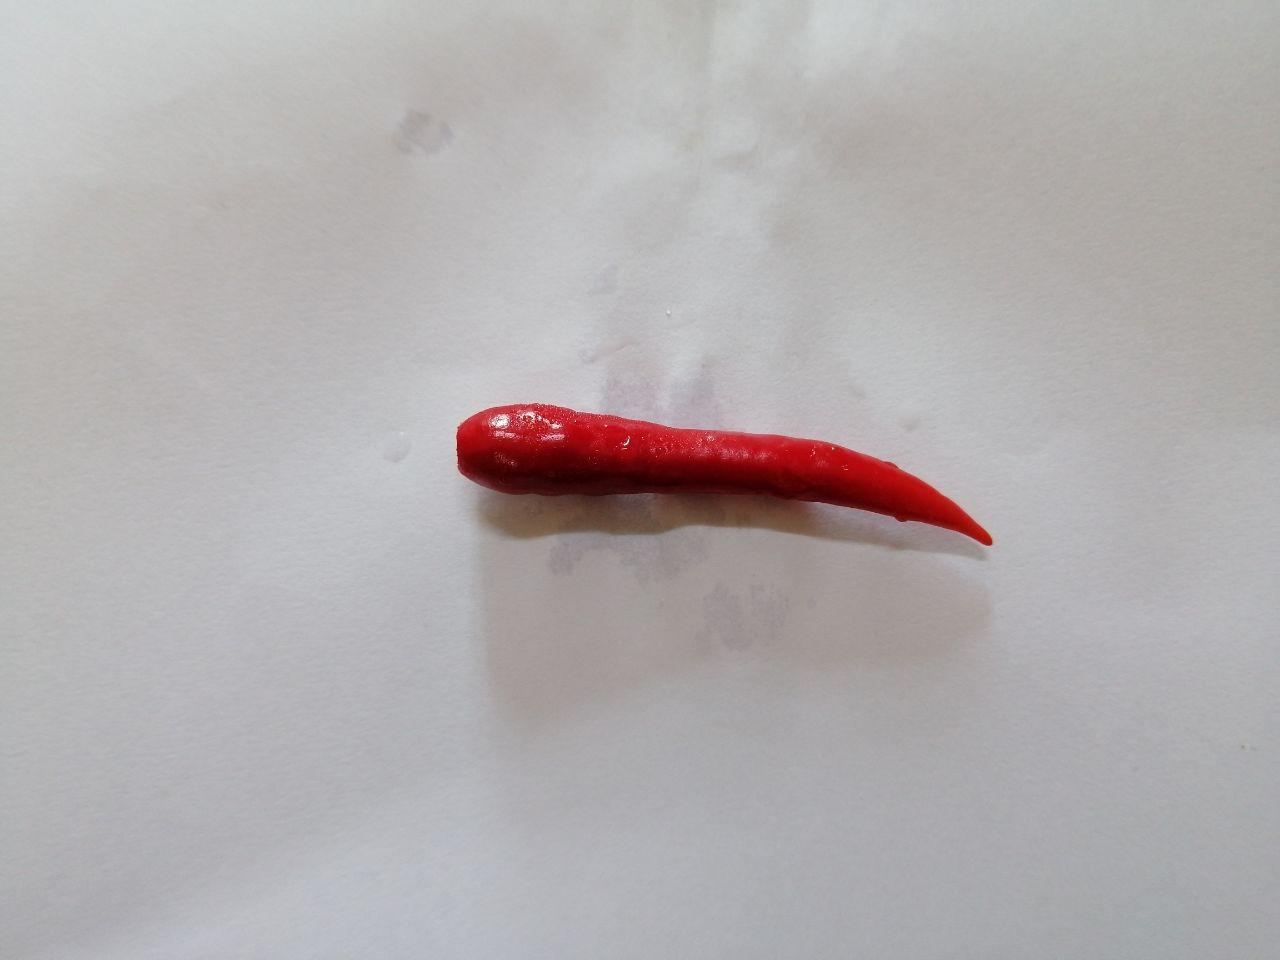lada merah: (433, 384, 1008, 583)
